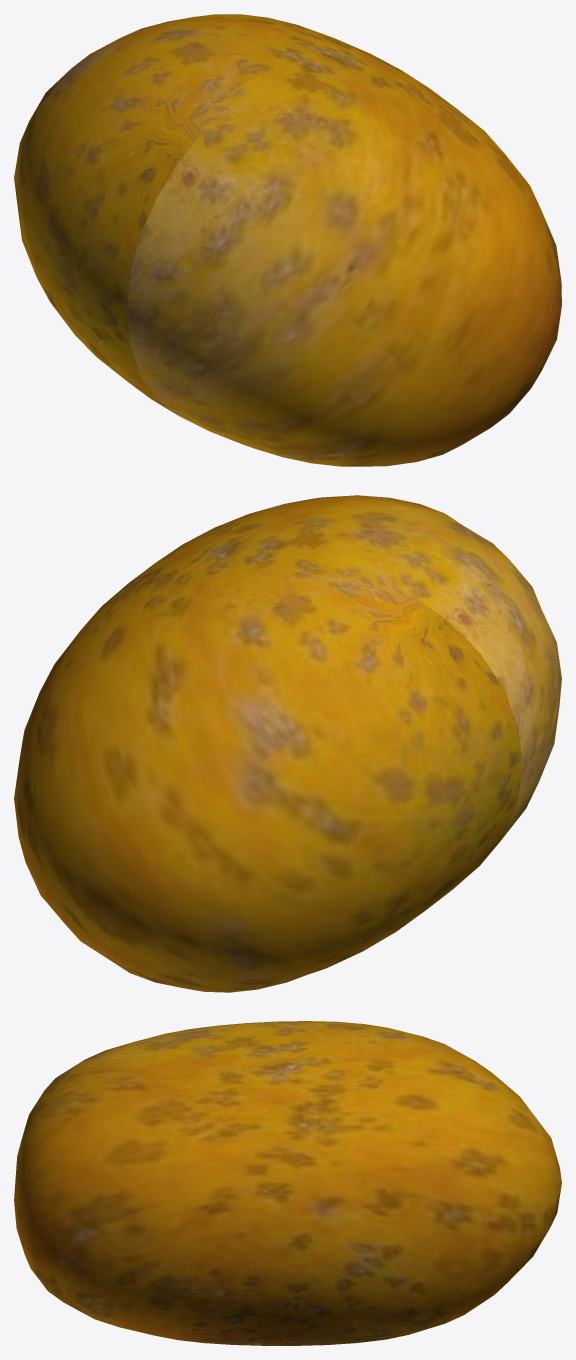
The model's file is papaya.fbx.
The picture shows the model from 3 angles, top to bottom: view 1: azimuth 30°, elevation 25°; view 2: azimuth 150°, elevation 25°; view 3: azimuth 270°, elevation 25°; orthographic projection. The views are drawn at different scales.
Parts seen in each view (by area): view 1: Papaya; view 2: Papaya; view 3: Papaya.
Boxes of the visible parts, bbox=[...] form: Papaya: bbox=[14, 14, 561, 466]; Papaya: bbox=[14, 495, 561, 992]; Papaya: bbox=[14, 1021, 561, 1345].
Size of the model in its own units: 229 by 197 by 340.
1 material, 1 textured.
